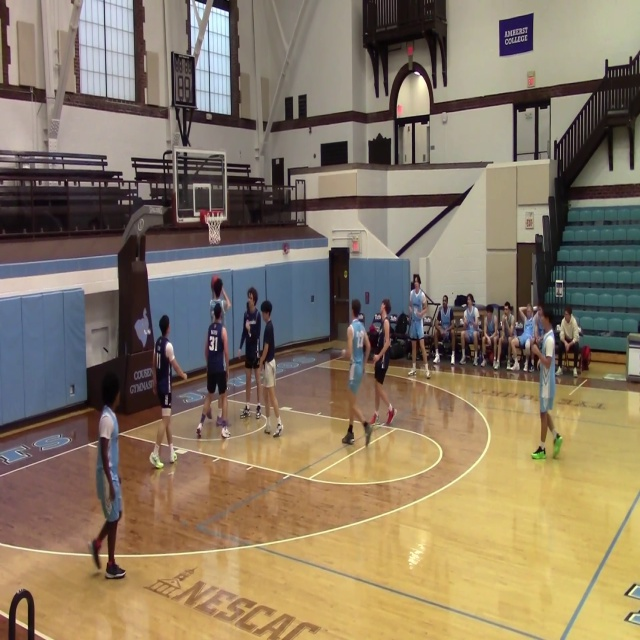Basketball: (211, 276, 222, 292)
